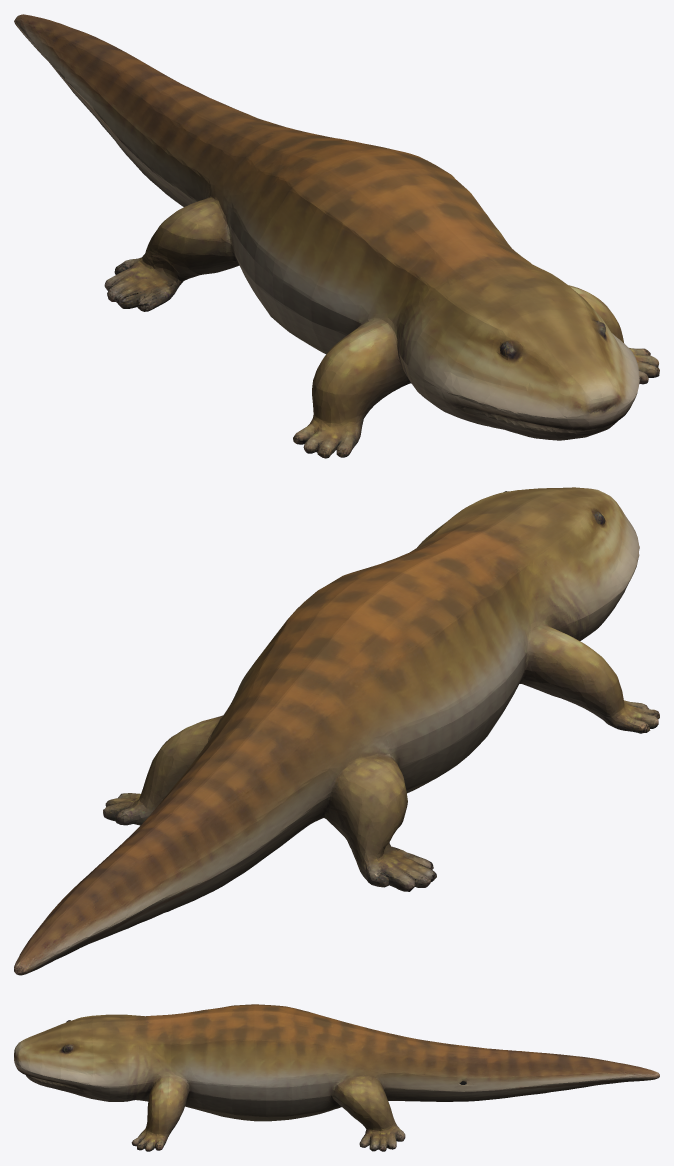
3 views of the same model, one above another, from view 1: azimuth 30°, elevation 25°; view 2: azimuth 150°, elevation 25°; view 3: azimuth 270°, elevation 25° (orthographic). The views are drawn at different scales.
Parts seen in each view (by area): view 1: world; view 2: world; view 3: world.
Boxes of the visible parts, x1,y1,x2,y2 form: world: (14, 14, 659, 458); world: (14, 487, 659, 975); world: (14, 1004, 659, 1151).
Size of the model in its own units: 0.3523 by 0.1737 by 1.
Materials: 1 (1 with a texture image).
